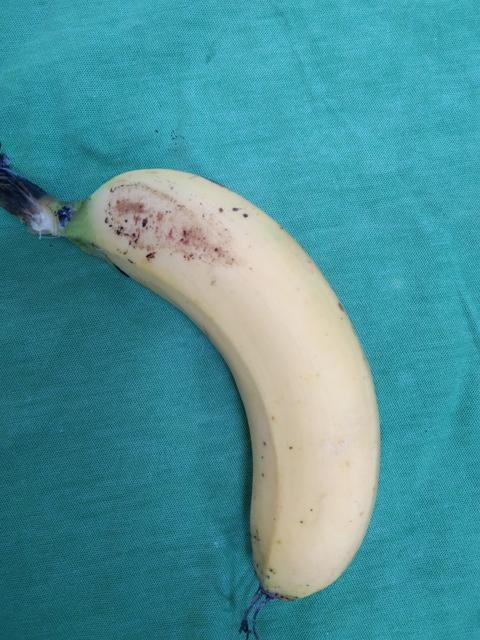freshripe: (73, 162, 387, 604)
